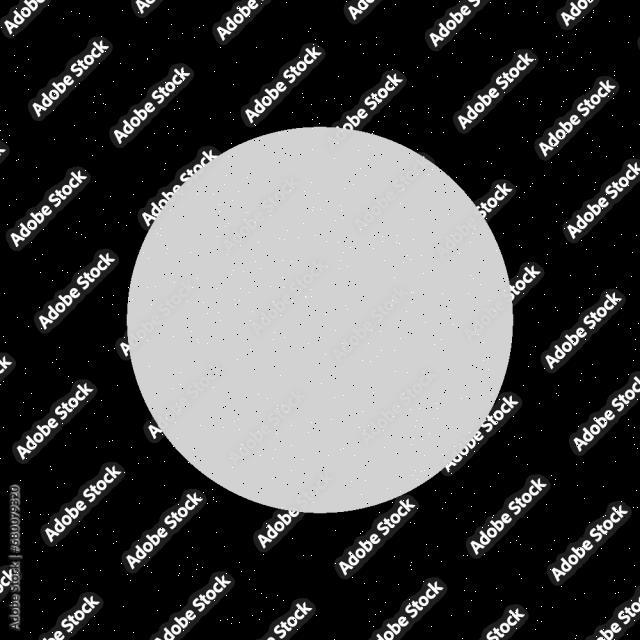Circle: (127, 125, 515, 518)
